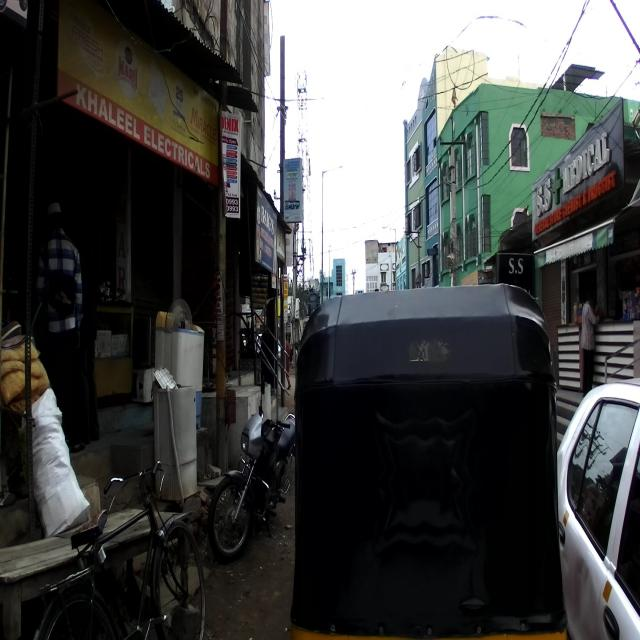Car_TATA: (556, 376, 640, 639)
autorickshaw: (289, 280, 569, 636)
motorcycle_Hero: (207, 373, 296, 556)
